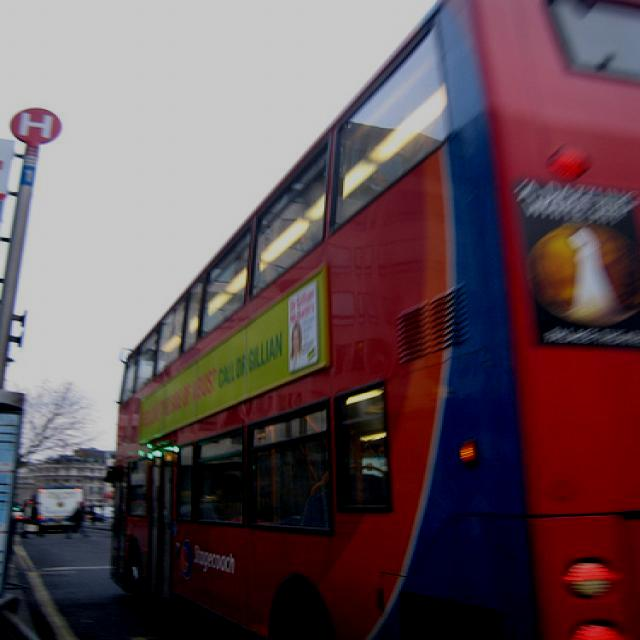bus: (109, 3, 637, 640)
